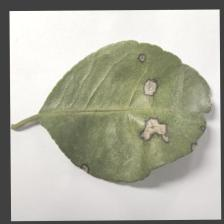canker: (119, 50, 179, 143)
